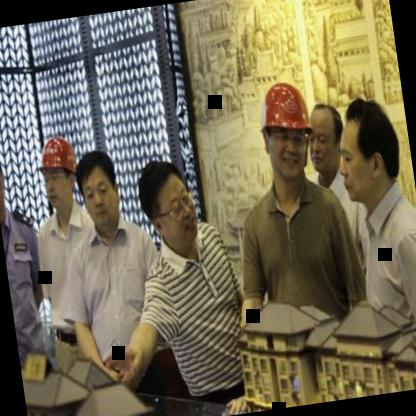head: (334, 94, 404, 209), (134, 154, 200, 252), (71, 148, 125, 233), (300, 90, 348, 178), (0, 151, 13, 221)
helmet: (251, 75, 318, 189), (37, 130, 83, 218)
